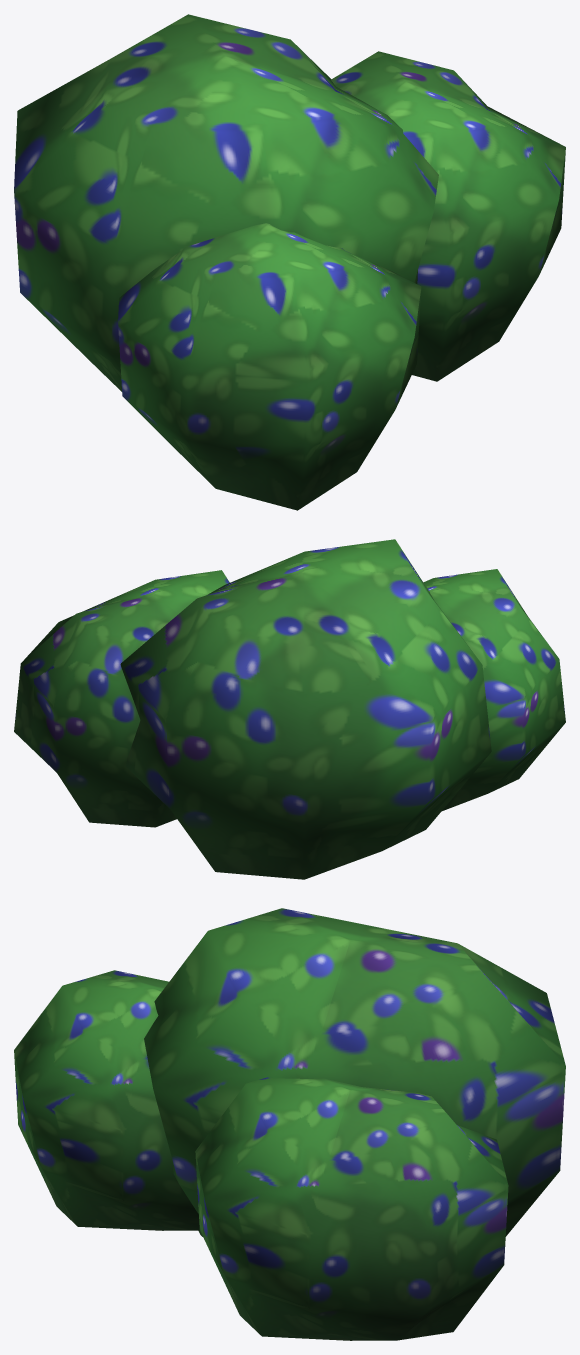
File: berry_bush.obj
3 views of the same model, one above another, from view 1: azimuth 30°, elevation 25°; view 2: azimuth 150°, elevation 25°; view 3: azimuth 270°, elevation 25° (orthographic). The views are drawn at different scales.
Visible parts, largest first — view 1: BerryBush; view 2: BerryBush; view 3: BerryBush.
Boxes of the visible parts, <box> form: BerryBush: <box>14,14,565,510</box>; BerryBush: <box>14,539,565,879</box>; BerryBush: <box>14,908,565,1340</box>.
Size of the model in its own units: 1.68 by 1.1 by 1.68.
Materials: 1 (1 with a texture image).
